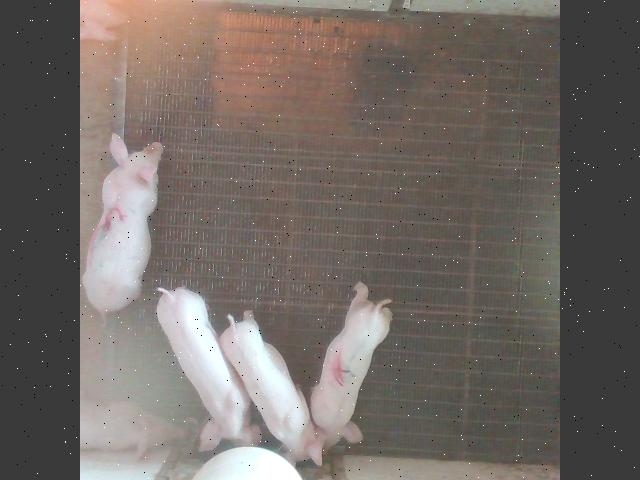pig-3: (83, 132, 162, 312)
pig-4: (312, 281, 392, 445)
